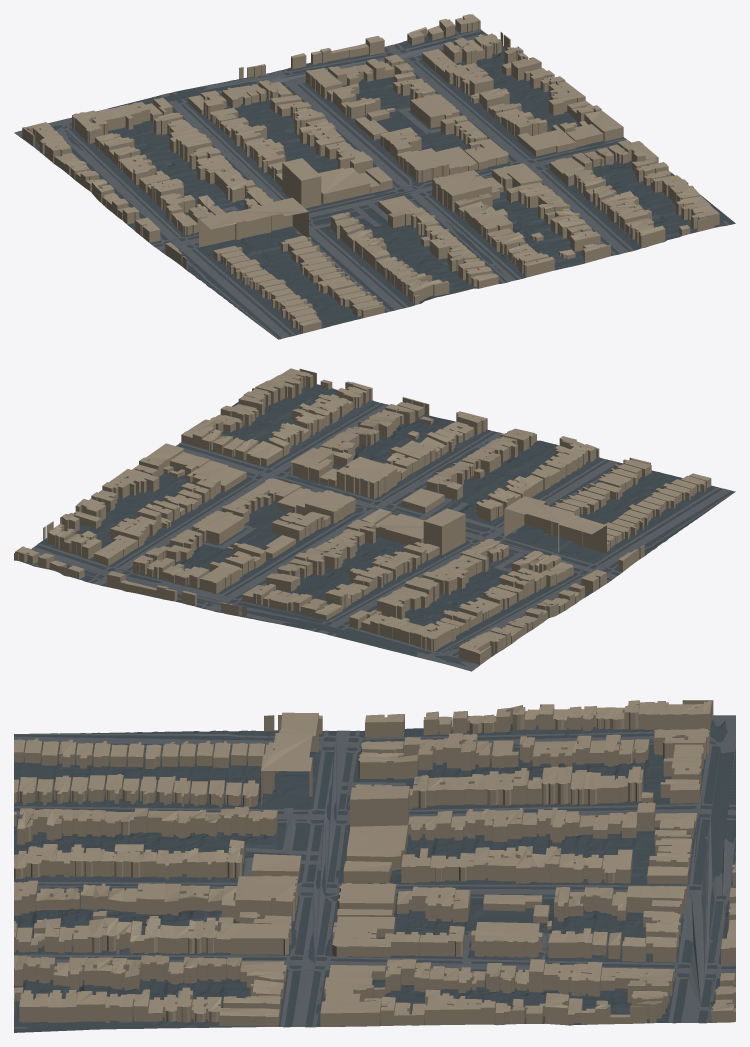
Rendered from epsg26910-1420-10884.lod0.glb.
3 renders of one model, top to bottom at view 1: azimuth 30°, elevation 25°; view 2: azimuth 150°, elevation 25°; view 3: azimuth 270°, elevation 25°, orthographic. The views are drawn at different scales.
Parts seen in each view (by area): view 1: epsg26910-1420-10884-lod0; view 2: epsg26910-1420-10884-lod0; view 3: epsg26910-1420-10884-lod0.
Part boxes in pixels (box(x1,y1,x2,y2)): epsg26910-1420-10884-lod0: box(14, 14, 735, 339); epsg26910-1420-10884-lod0: box(14, 368, 735, 671); epsg26910-1420-10884-lod0: box(14, 700, 735, 1032).
Bounding box in the file's own units: 384 × 28.23 × 384.
